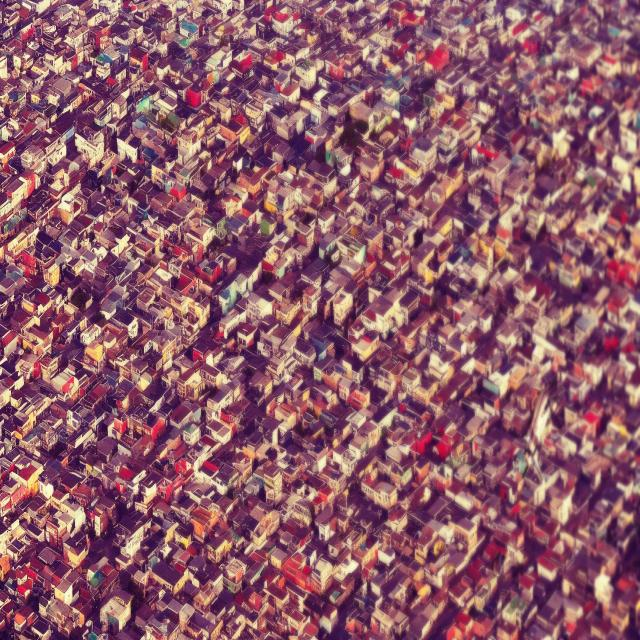airplane: (522, 392, 552, 484), (464, 551, 506, 606)
